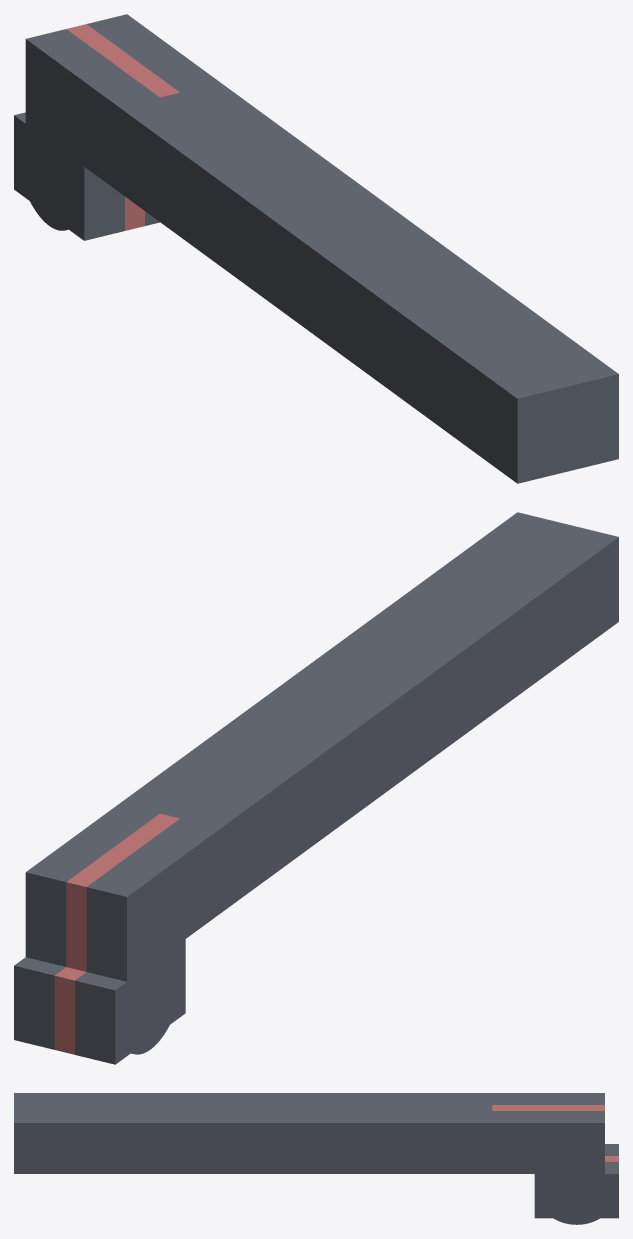
Rendered from step_03.glb.
3 renders of one model, top to bottom at view 1: azimuth 30°, elevation 25°; view 2: azimuth 150°, elevation 25°; view 3: azimuth 270°, elevation 25°, orthographic. The views are drawn at different scales.
Parts seen in each view (by area): view 1: part__armrest, removed__armrest; view 2: part__armrest, removed__armrest; view 3: part__armrest, removed__armrest.
Part boxes in pixels (x1=…): part__armrest: x1=14, y1=14, x2=618, y2=483; removed__armrest: x1=67, y1=24, x2=179, y2=230; part__armrest: x1=14, y1=512, x2=618, y2=1064; removed__armrest: x1=54, y1=813, x2=179, y2=1054; part__armrest: x1=14, y1=1093, x2=618, y2=1224; removed__armrest: x1=492, y1=1105, x2=618, y2=1161.
Bounding box in the file's own units: 50 × 80 × 430.
